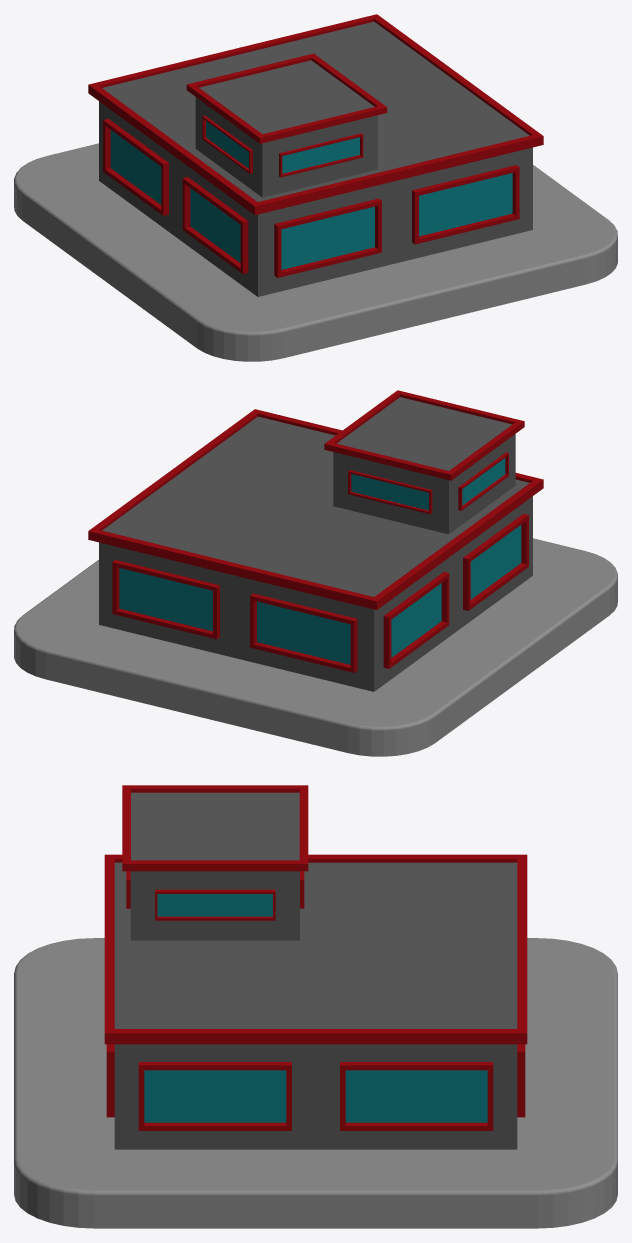
Rendered from structure_research_lab.fbx.
3 renders of one model, top to bottom at view 1: azimuth 30°, elevation 25°; view 2: azimuth 150°, elevation 25°; view 3: azimuth 270°, elevation 25°, orthographic. The views are drawn at different scales.
Visible parts, largest first — view 1: ResearchLab; view 2: ResearchLab; view 3: ResearchLab.
Boxes of the visible parts, left/top/right/bottom form: ResearchLab: left=14, top=14, right=617, bottom=361; ResearchLab: left=14, top=390, right=617, bottom=756; ResearchLab: left=14, top=785, right=617, bottom=1228.
Bounding box in the file's own units: 0.75 × 0.75 × 0.32.
